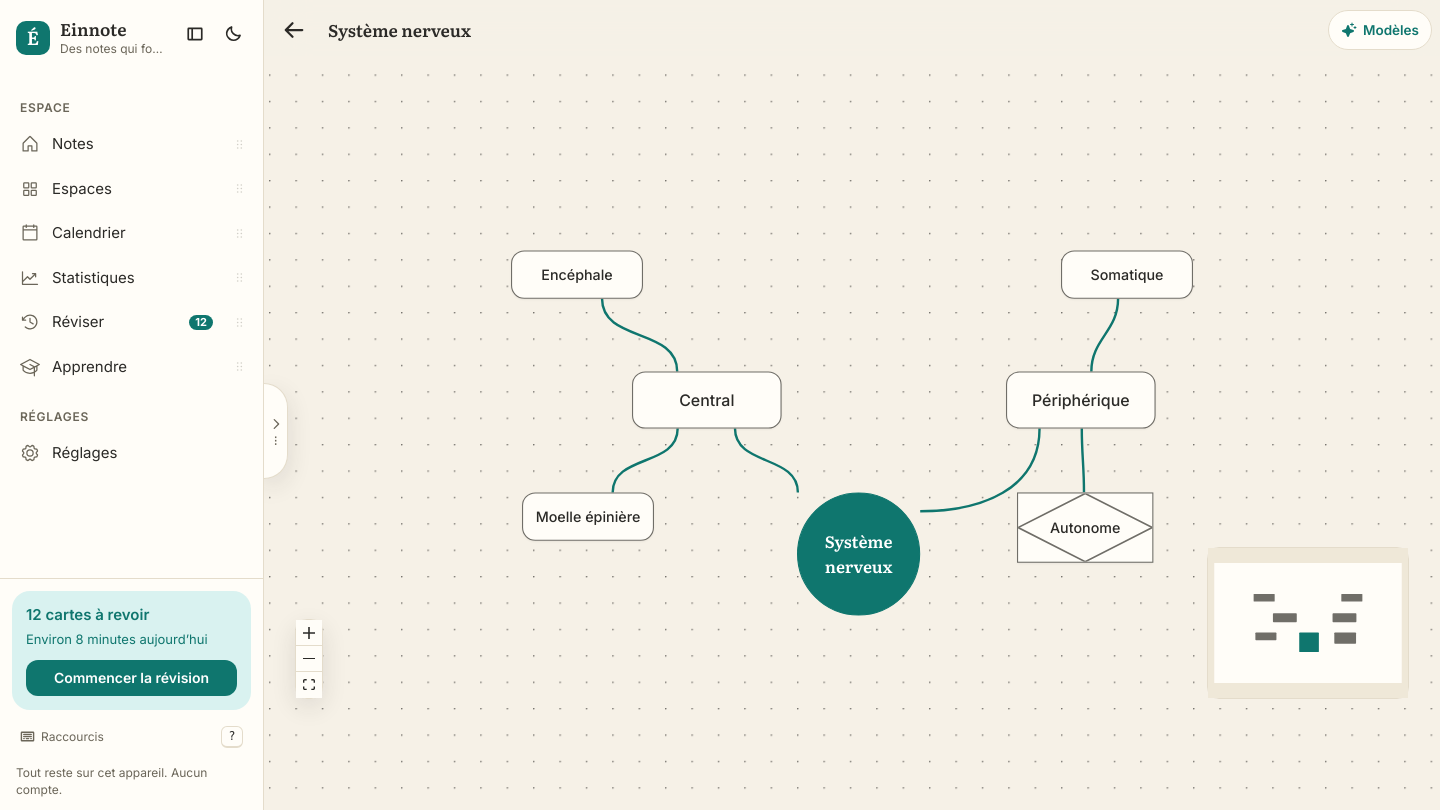
Canevas — les formes › replie la barre flottante sans perdre les outils
Click the button named "Déplier les outils du canevas": (276, 431) [264,383,288,479]
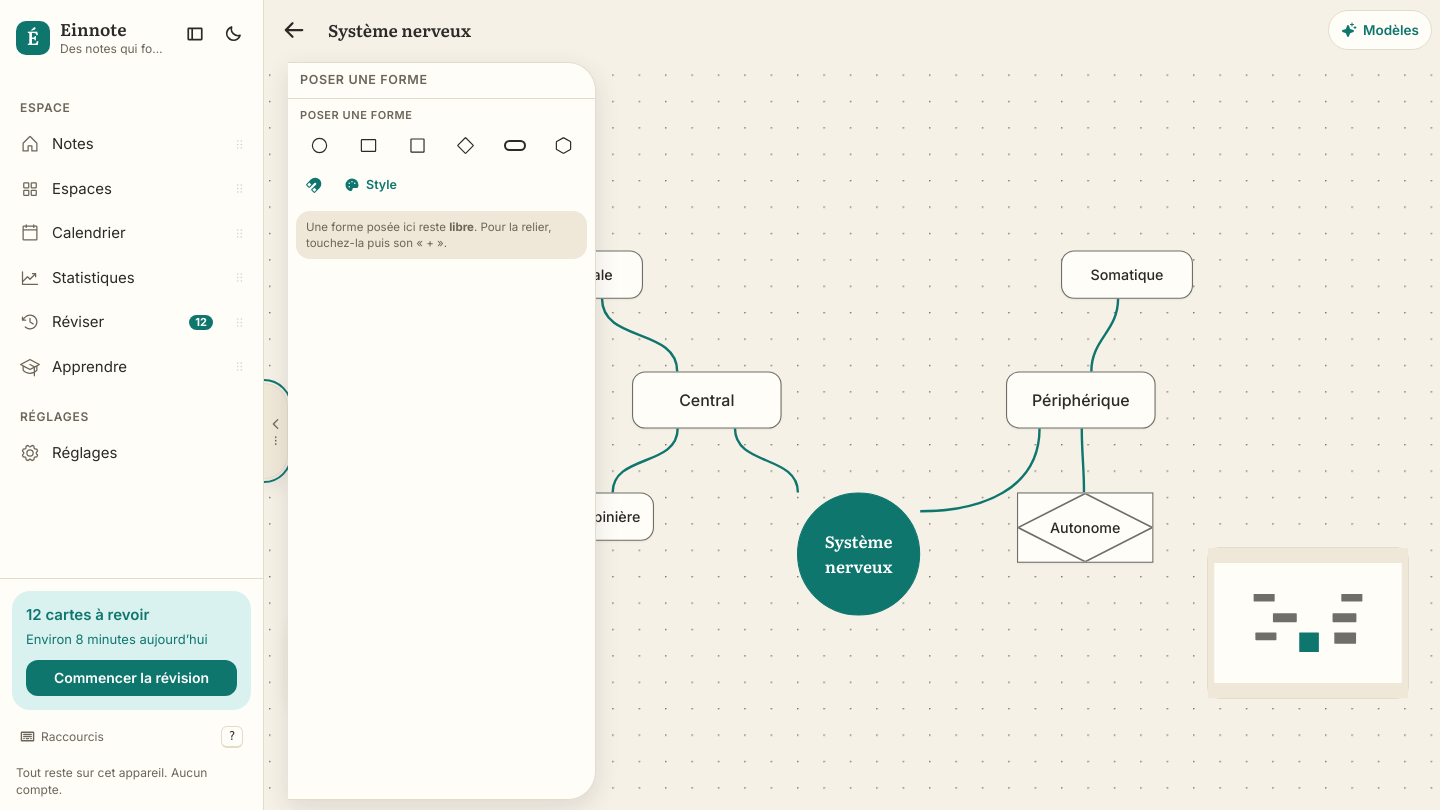
Expected: the button named "Cercle" is shown, [296,127,343,163]
Click the button named "Replier les outils du canevas": (276, 431) [264,383,288,479]
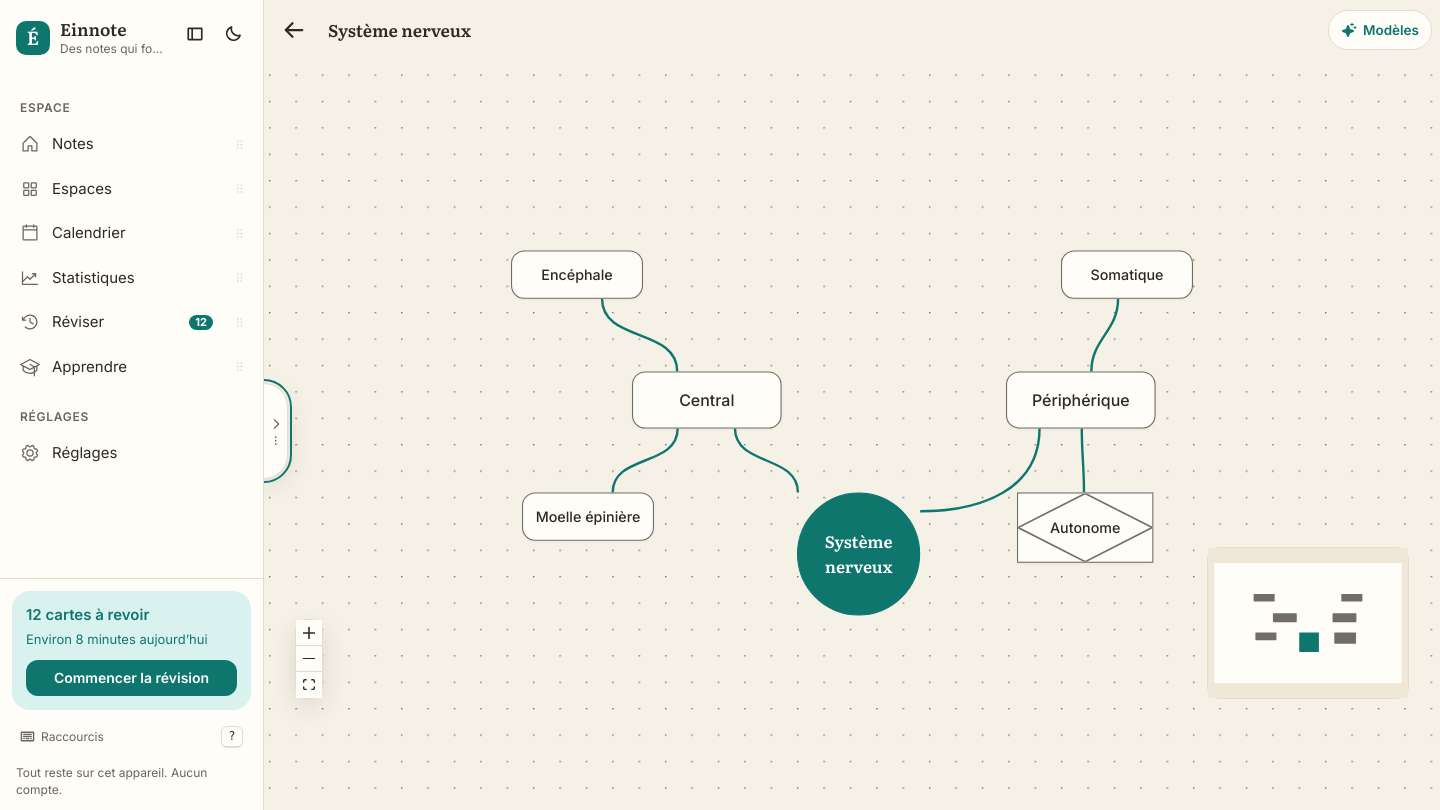
Expected: the button "Cercle" is gone
